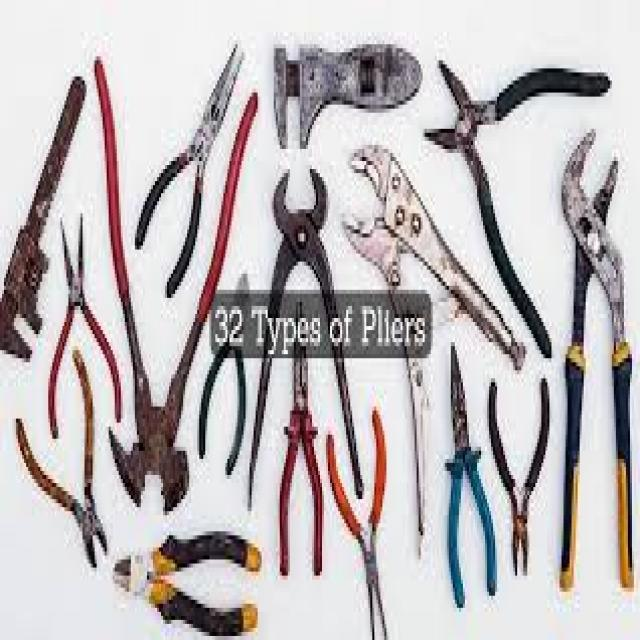pliers: (439, 0, 561, 374), (563, 122, 640, 603), (138, 32, 242, 282), (12, 354, 106, 576), (36, 203, 124, 430), (268, 295, 336, 581), (435, 330, 500, 620), (114, 521, 266, 640), (481, 364, 554, 596), (323, 412, 392, 640)
